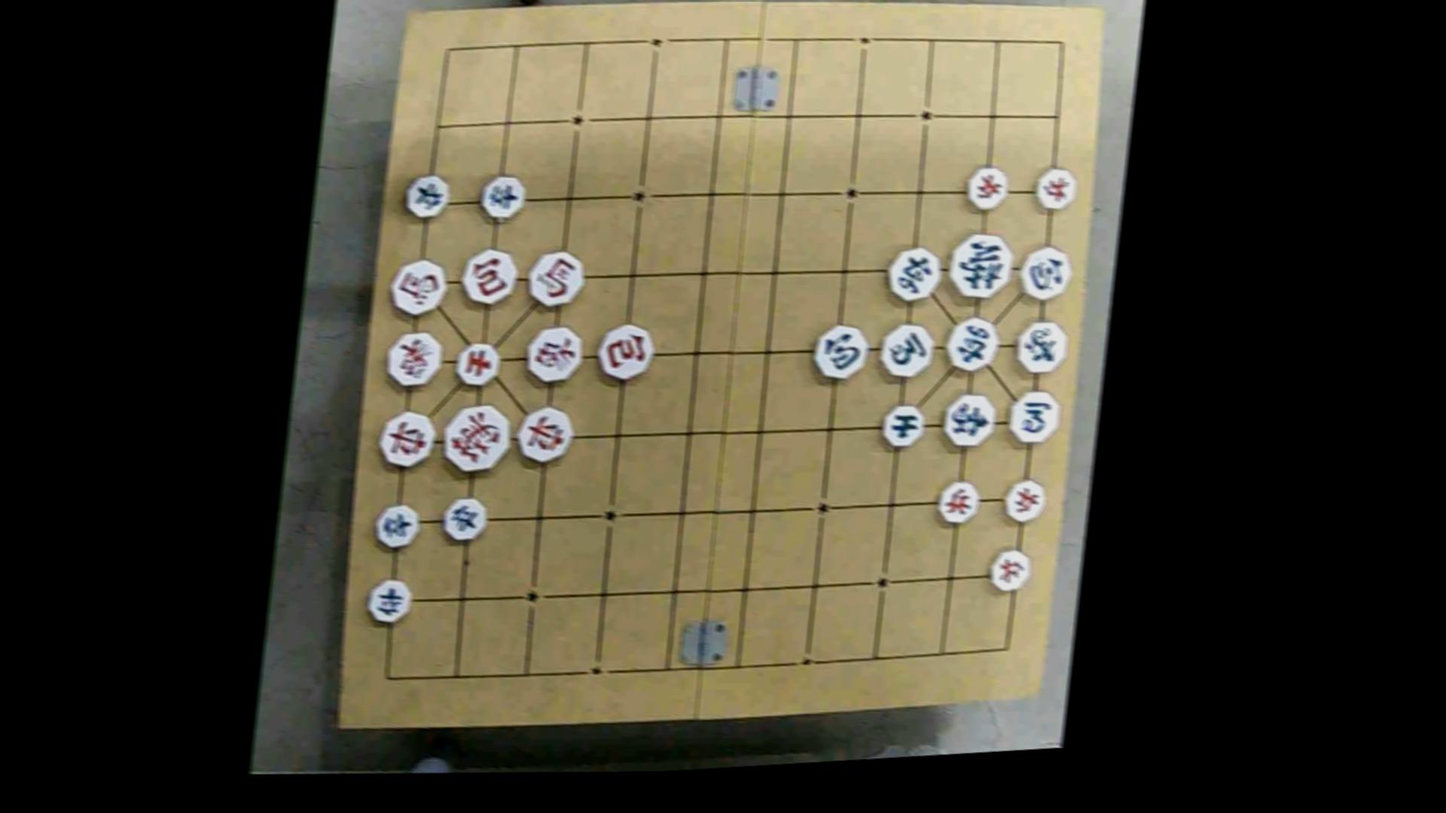cha_green: (881, 246, 944, 304), (941, 314, 998, 376)
cha_red: (376, 410, 435, 473), (511, 403, 569, 467)
jol_green: (399, 172, 452, 223), (362, 575, 413, 628), (373, 501, 422, 551), (439, 493, 488, 542), (477, 174, 523, 222)
jol_red: (997, 474, 1047, 525), (963, 160, 1011, 212), (985, 546, 1033, 598), (932, 477, 980, 528), (1032, 166, 1075, 213)
ma_green: (876, 319, 935, 380), (1005, 390, 1060, 450)
ma_red: (521, 251, 580, 314), (387, 257, 446, 318)
po_green: (1015, 242, 1075, 303), (809, 322, 871, 380)
po_red: (459, 249, 516, 309), (593, 323, 649, 384)
sa_green: (880, 401, 927, 449)
sa_red: (453, 340, 499, 389)
sang_green: (936, 388, 999, 450), (1013, 318, 1069, 376)
sang_red: (383, 329, 442, 391), (519, 328, 577, 390)
wang_green: (946, 230, 1013, 300)
wang_red: (438, 401, 509, 477)
